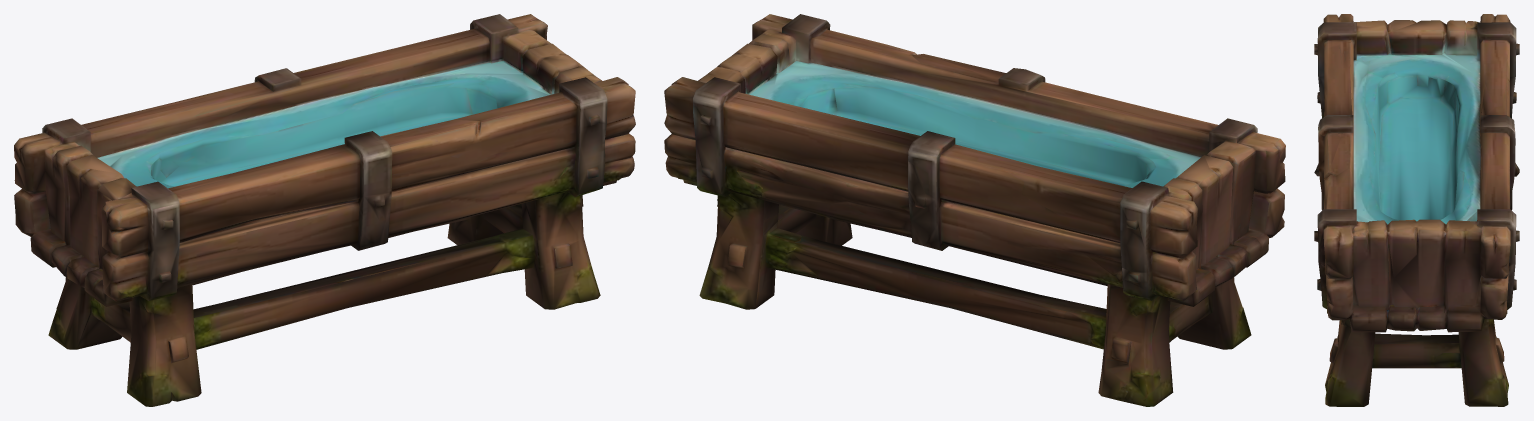
Rendered from trough-a.glb.
The picture shows the model from 3 angles, left to right: view 1: azimuth 30°, elevation 25°; view 2: azimuth 150°, elevation 25°; view 3: azimuth 270°, elevation 25°; orthographic projection. The views are drawn at different scales.
Parts seen in each view (by area): view 1: node_0; view 2: node_0; view 3: node_0.
Boxes of the visible parts, <box> form: node_0: <box>14,14,635,406</box>; node_0: <box>664,14,1285,406</box>; node_0: <box>1314,14,1519,406</box>.
Size of the model in its own units: 1.84 by 0.699 by 0.6992.
Materials: 1 (1 with a texture image).
